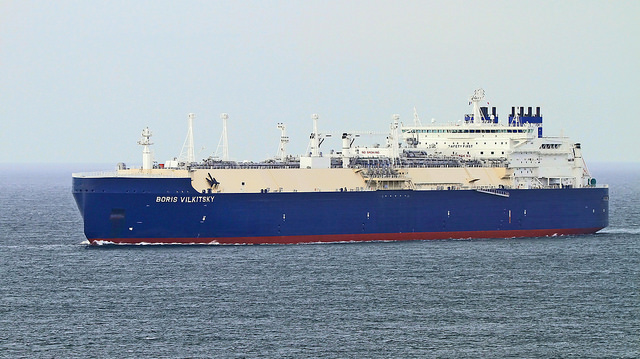LNG_ship: (69, 86, 623, 242)
